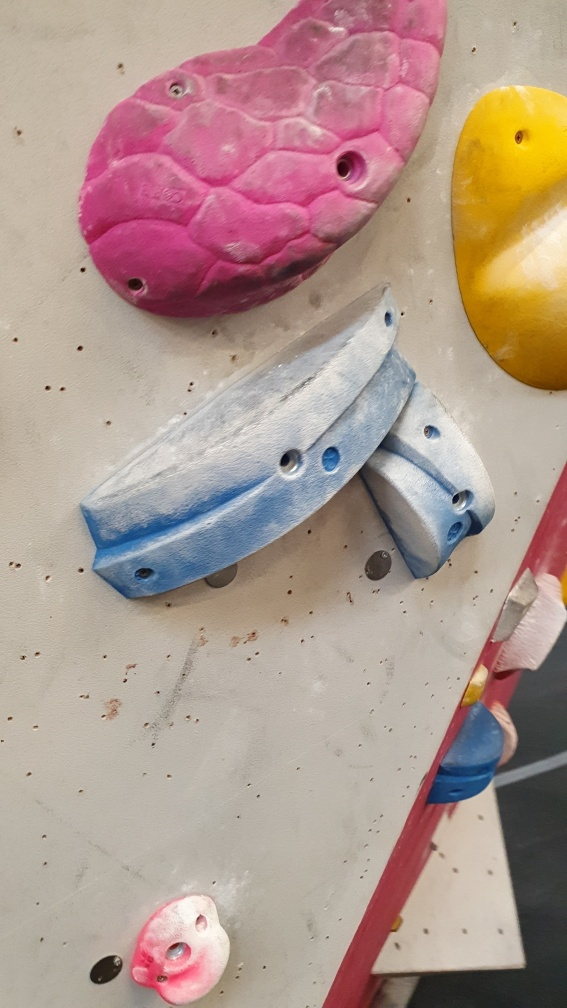Hand Start: (87, 951, 125, 990), (363, 549, 396, 583)
Pinch: (80, 283, 418, 601), (359, 380, 496, 578), (434, 700, 505, 807)
